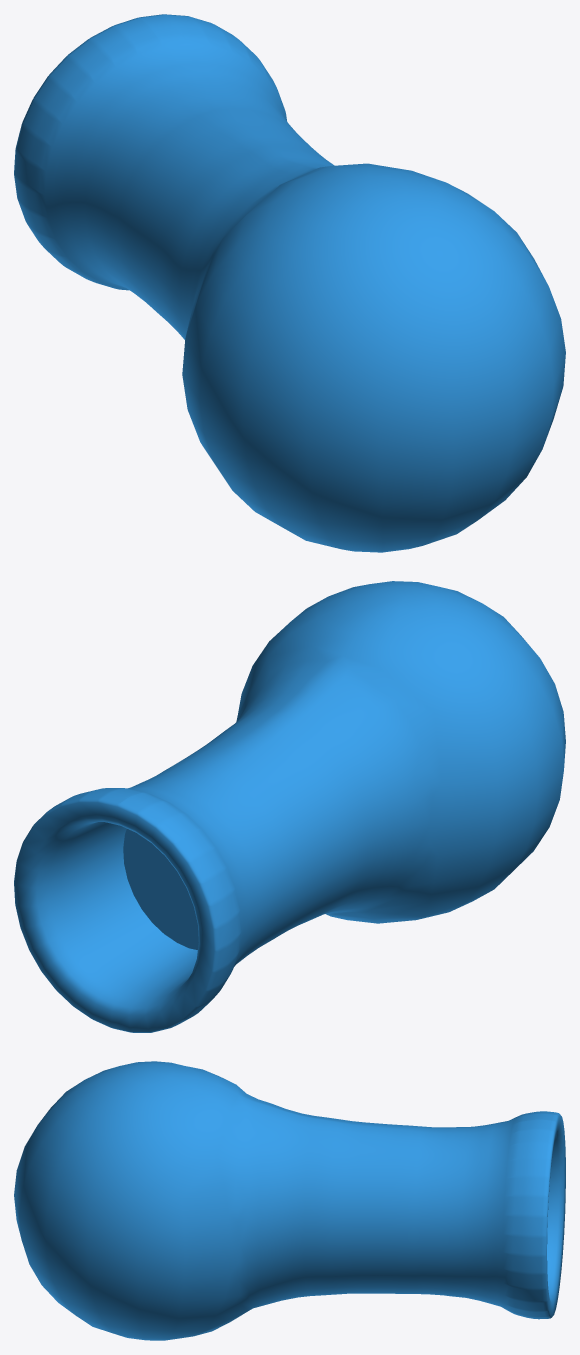
File: Canon_top (1).fbx
3 views of the same model, one above another, from view 1: azimuth 30°, elevation 25°; view 2: azimuth 150°, elevation 25°; view 3: azimuth 270°, elevation 25° (orthographic). The views are drawn at different scales.
Visible parts, largest first — view 1: canon.001; view 2: canon.001; view 3: canon.001.
Part boxes in pixels (<box>): canon.001: <box>14,14,565,552</box>; canon.001: <box>14,581,565,1032</box>; canon.001: <box>14,1061,565,1340</box>.
Bounding box in the file's own units: 1.51 × 1.5 × 2.97.
